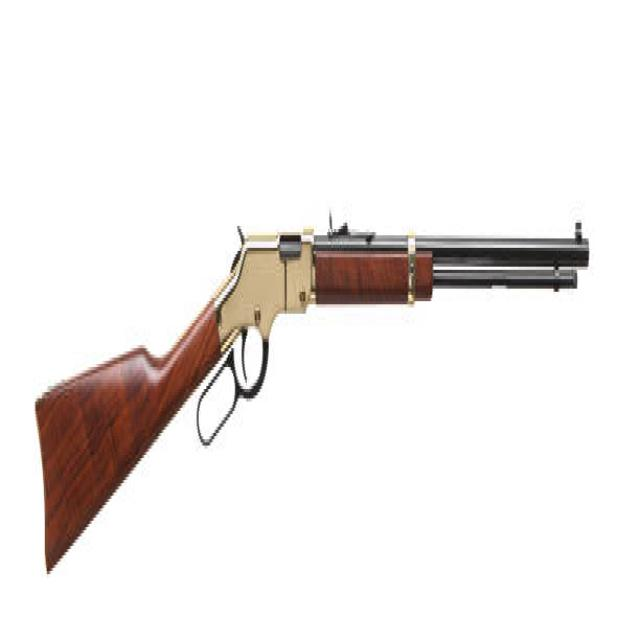rifle: (34, 211, 593, 586)
